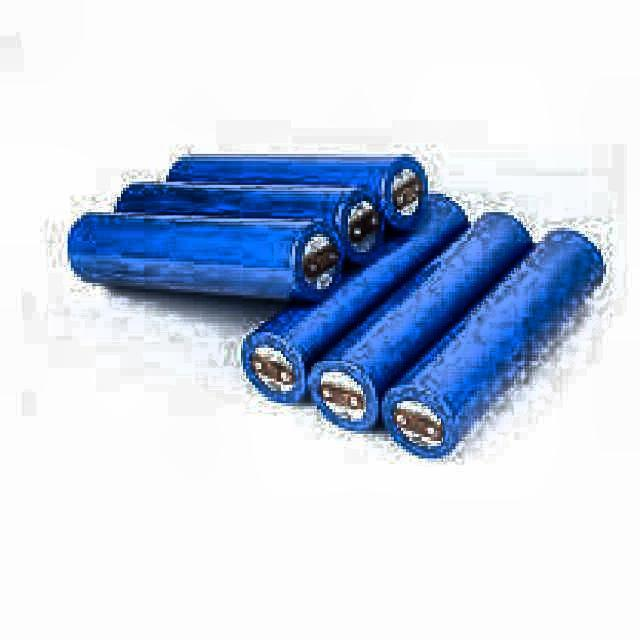battery: (306, 211, 532, 431), (67, 214, 344, 302), (114, 181, 386, 266)
